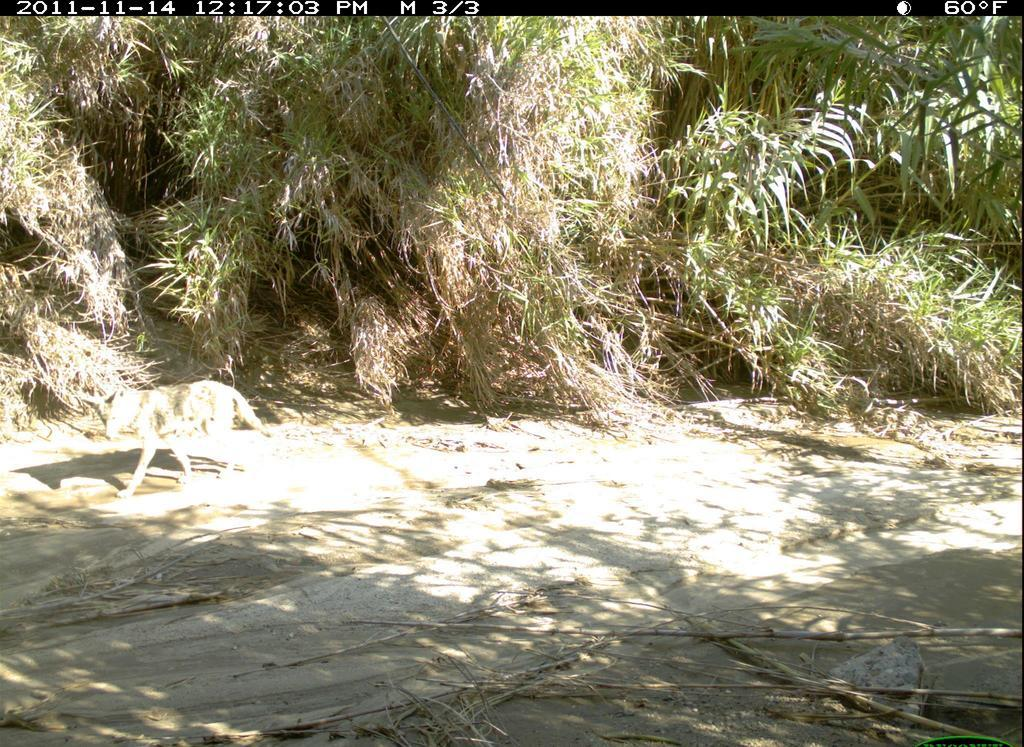coyote: (82, 381, 277, 515)
